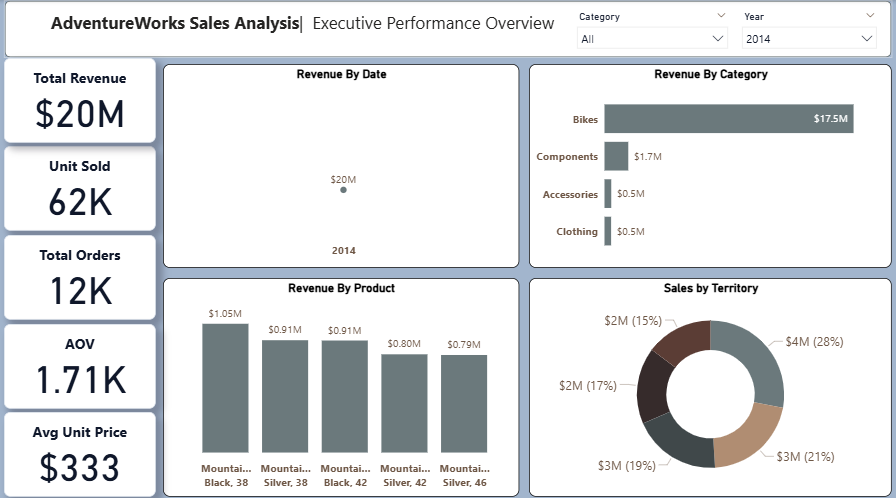

Layout of this report page (visuals, bound fields, positions):
{"tool":"powerbi","page":{"name":"Page 1","canvas":[1280,720],"ordinal":0},"visuals":[{"type":"shape","box":[9.9,0,1258.6,82.2],"z":0},{"type":"textbox","box":[35.4,9.9,795.1,49.6],"z":1000},{"type":"slicer","fields":{"Values":["Fact_Sales.CategoryName"]},"box":[812.1,9.9,233.9,65.2],"z":2000},{"type":"slicer","fields":{"Values":["Fact_Sales.OrderDate.Variation.Date Hierarchy.Year"]},"box":[1046,9.9,211.2,65.2],"z":3000},{"type":"cardVisual","fields":{"Data":["Key Measures.Unit Sold"]},"box":[9.9,207.5,215.4,120.5],"z":4000},{"type":"cardVisual","fields":{"Data":["Key Measures.Total Revenue"]},"box":[9.9,82.2,215.4,120],"z":5000},{"type":"cardVisual","fields":{"Data":["Key Measures.Total Orders"]},"box":[9.9,333.3,215.4,120],"z":6000},{"type":"areaChart","title":"Revenue By Date","fields":{"Category":["Fact_Sales.OrderDate.Variation.Date Hierarchy.Year","Fact_Sales.OrderDate.Variation.Date Hierarchy.Quarter","Fact_Sales.OrderDate.Variation.Date Hierarchy.Month","Fact_Sales.OrderDate.Variation.Date Hierarchy.Day"],"Y":["Key Measures.Total Revenue"]},"box":[235.3,90.7,504.6,289.1],"z":7000},{"type":"clusteredBarChart","title":"Revenue By Category","fields":{"Category":["Fact_Sales.CategoryName"],"Y":["Key Measures.Total Revenue"]},"box":[754,90.7,514.5,289.1],"z":8000},{"type":"clusteredColumnChart","title":"Revenue By Product","fields":{"Y":["Key Measures.Total Revenue"],"Category":["Fact_Sales.Productname"]},"box":[235.3,394,504.6,310.4],"z":9000},{"type":"cardVisual","fields":{"Data":["Key Measures.Average Order Value"]},"box":[9.9,458.6,215.4,120],"z":10000},{"type":"donutChart","title":"Sales by Territory","fields":{"Y":["Key Measures.Total Revenue"],"Category":["Fact_Sales.TerritoryID"]},"box":[754,394,514.5,310.4],"z":11000},{"type":"cardVisual","fields":{"Data":["Key Measures.Avg Unit Price"]},"box":[9.9,583.9,215.4,120.5],"z":12000}]}

Visuals, with their boxes in screenshot pixels (x1, y1, x2, y2), scaled from the page's 1280x720 canvas onto the 896x498 screenshot:
shape: locate(7, 0, 888, 57)
textbox: locate(25, 7, 581, 41)
slicer - Fact_Sales.CategoryName: locate(568, 7, 732, 52)
slicer - Fact_Sales.OrderDate.Variation.Date Hierarchy.Year: locate(732, 7, 880, 52)
cardVisual - Key Measures.Unit Sold: locate(7, 144, 158, 227)
cardVisual - Key Measures.Total Revenue: locate(7, 57, 158, 140)
cardVisual - Key Measures.Total Orders: locate(7, 231, 158, 314)
"Revenue By Date" areaChart: locate(165, 63, 518, 263)
"Revenue By Category" clusteredBarChart: locate(528, 63, 888, 263)
"Revenue By Product" clusteredColumnChart: locate(165, 273, 518, 487)
cardVisual - Key Measures.Average Order Value: locate(7, 317, 158, 400)
"Sales by Territory" donutChart: locate(528, 273, 888, 487)
cardVisual - Key Measures.Avg Unit Price: locate(7, 404, 158, 487)
